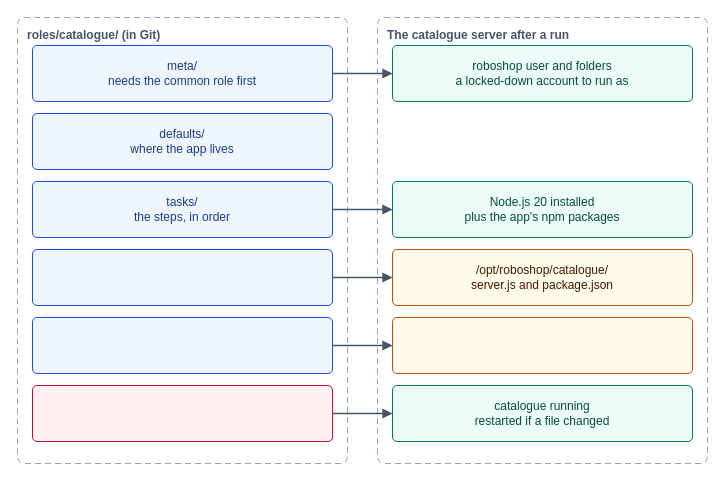
This 725x481 diagram has some shape labels left out. Here are the shapes that lost their labels. From the top down, the box of each, then its label:
(32, 248, 332, 306): files/ the app's code: server.js
(32, 316, 332, 374): templates/ service file with blanks
(392, 316, 692, 374): catalogue.service MONGO_URL filled in
(32, 384, 332, 442): handlers/ restart, only if needed
